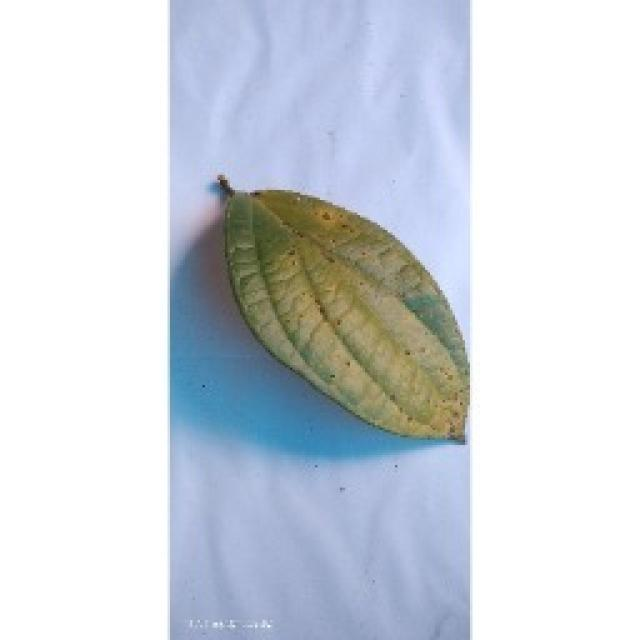slow-decline: (212, 175, 470, 443)
